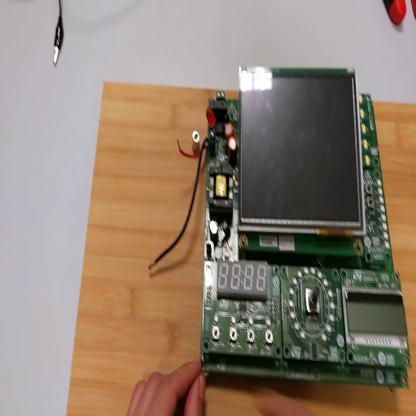hand: (129, 364, 210, 411), (253, 388, 313, 412)
low voltage board: (150, 65, 409, 389)
pliers: (384, 2, 416, 29)
working area: (70, 82, 416, 414)
